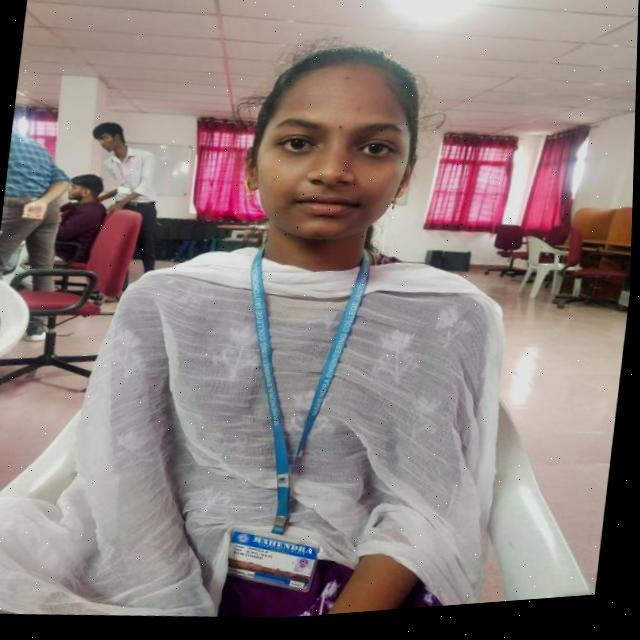id_card: (204, 233, 374, 610)
